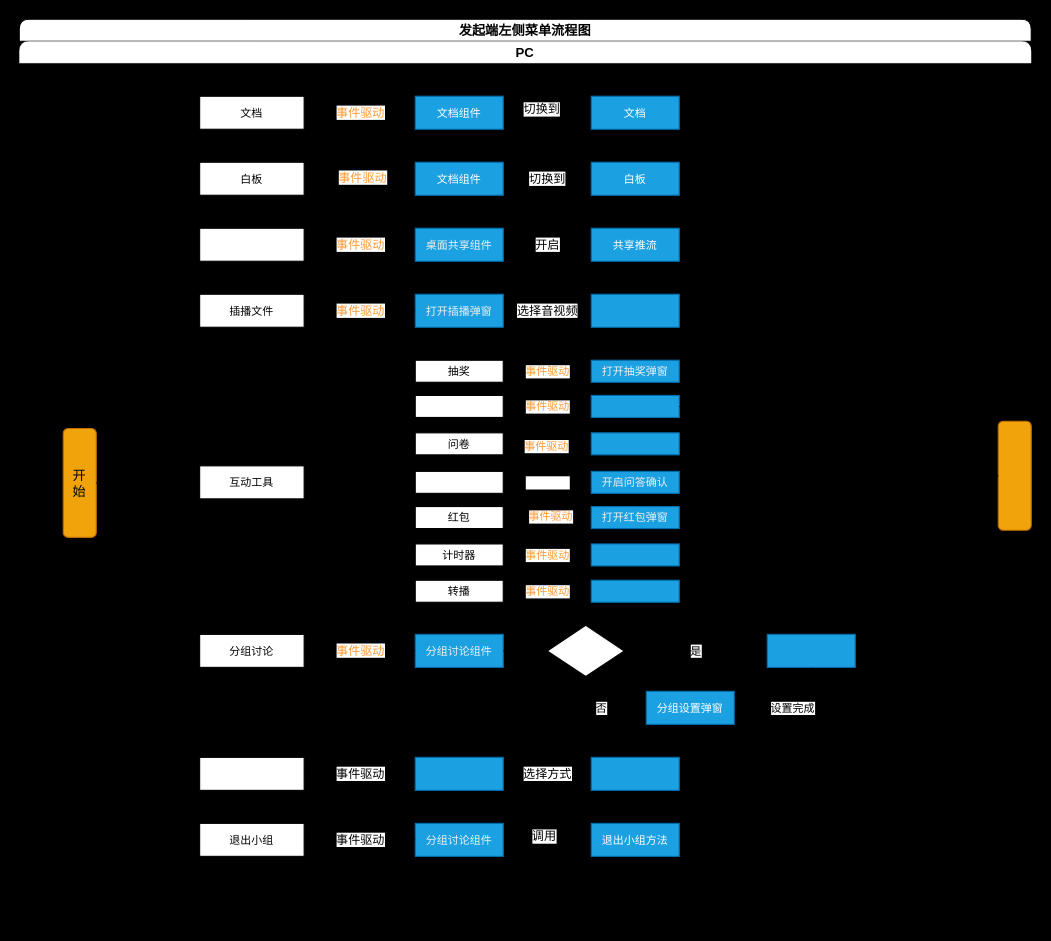
The diagram is 1051 pixels wide and 941 high, and some of its shapes have lost their labels. Each missing label, with the box of its shape:
分享: (199, 756, 304, 790)
分享到: (590, 756, 679, 790)
分组操作面板: (766, 633, 855, 667)
打开分享弹窗: (414, 756, 503, 790)
打开签到弹窗: (590, 394, 679, 417)
打开计时器组件: (590, 543, 679, 566)
打开转播弹窗: (590, 579, 679, 602)
打开问卷弹窗: (590, 432, 679, 455)
播放: (590, 293, 679, 327)
是否已分组？: (546, 624, 624, 676)
桌面共享: (199, 227, 304, 261)
签到: (414, 394, 503, 417)
结 束: (997, 420, 1031, 530)
问答: (414, 470, 503, 493)
